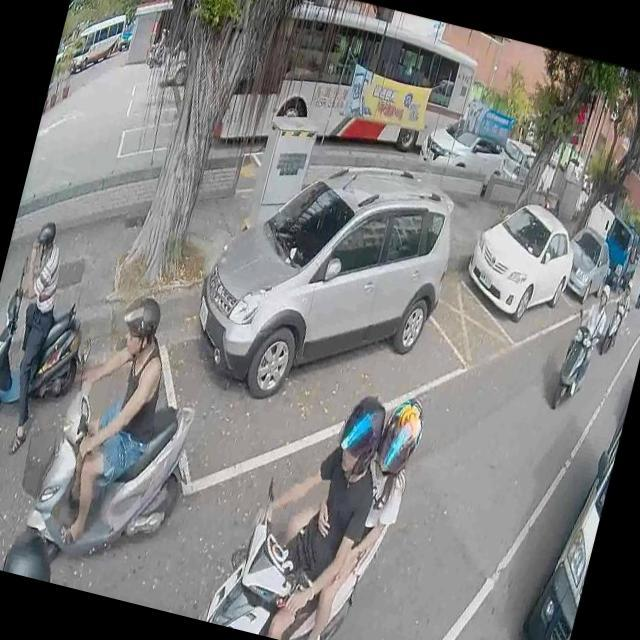person: (226, 371, 402, 640), (259, 377, 432, 640), (37, 278, 187, 566), (0, 220, 83, 452), (556, 280, 614, 398), (0, 522, 66, 584), (608, 280, 634, 340), (152, 26, 168, 59)
